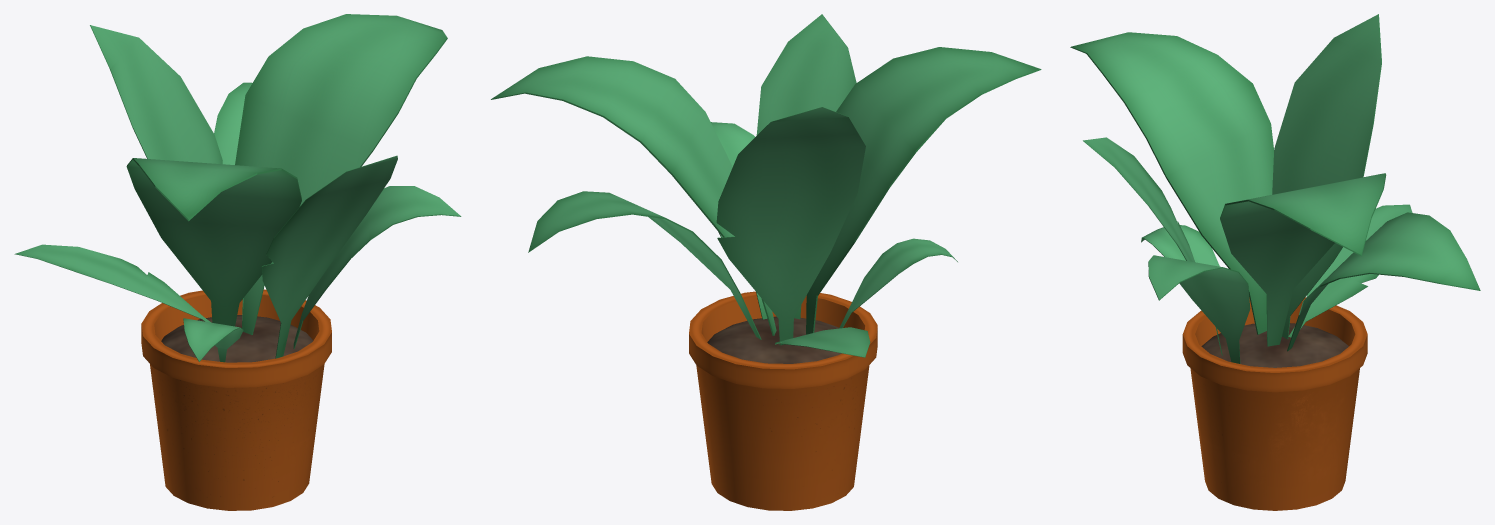
File: Plant_1.fbx
The picture shows the model from 3 angles, left to right: view 1: azimuth 30°, elevation 25°; view 2: azimuth 150°, elevation 25°; view 3: azimuth 270°, elevation 25°; orthographic projection. The views are drawn at different scales.
Visible parts, largest first — view 1: flower_pot, leaf_4, leaf_5, leaf_8, leaf_7, leaf_1, leaf_6, dirt_in_pot, leaf_3, leaf_2; view 2: flower_pot, leaf_7, leaf_5, leaf_4, leaf_8, leaf_3, dirt_in_pot, leaf_2, leaf_6, leaf_1; view 3: flower_pot, leaf_5, leaf_7, leaf_4, leaf_3, leaf_1, dirt_in_pot, leaf_8, leaf_6, leaf_2.
Part boxes in pixels (x1,y1,x2,y2): flower_pot: [141, 289, 331, 510]; leaf_4: [235, 14, 447, 334]; leaf_5: [126, 158, 301, 326]; leaf_8: [261, 155, 397, 358]; leaf_7: [90, 25, 222, 164]; leaf_1: [293, 186, 461, 349]; leaf_6: [14, 244, 210, 322]; dirt_in_pot: [161, 315, 313, 362]; leaf_3: [214, 82, 252, 325]; leaf_2: [183, 318, 243, 362]; flower_pot: [689, 291, 877, 510]; leaf_7: [716, 107, 865, 341]; leaf_5: [806, 47, 1041, 334]; leaf_4: [491, 56, 776, 335]; leaf_8: [756, 14, 856, 319]; leaf_3: [528, 191, 761, 339]; dirt_in_pot: [707, 316, 841, 363]; leaf_2: [839, 238, 957, 328]; leaf_6: [775, 327, 870, 357]; leaf_1: [711, 122, 767, 319]; flower_pot: [1182, 297, 1367, 510]; leaf_5: [1070, 32, 1273, 334]; leaf_7: [1272, 14, 1381, 339]; leaf_4: [1220, 173, 1386, 346]; leaf_3: [1287, 212, 1480, 351]; leaf_1: [1148, 255, 1250, 363]; dirt_in_pot: [1201, 323, 1348, 367]; leaf_8: [1083, 137, 1222, 355]; leaf_6: [1288, 204, 1412, 337]; leaf_2: [1141, 225, 1219, 266].
Size of the model in its own units: 153 by 157 by 138.
